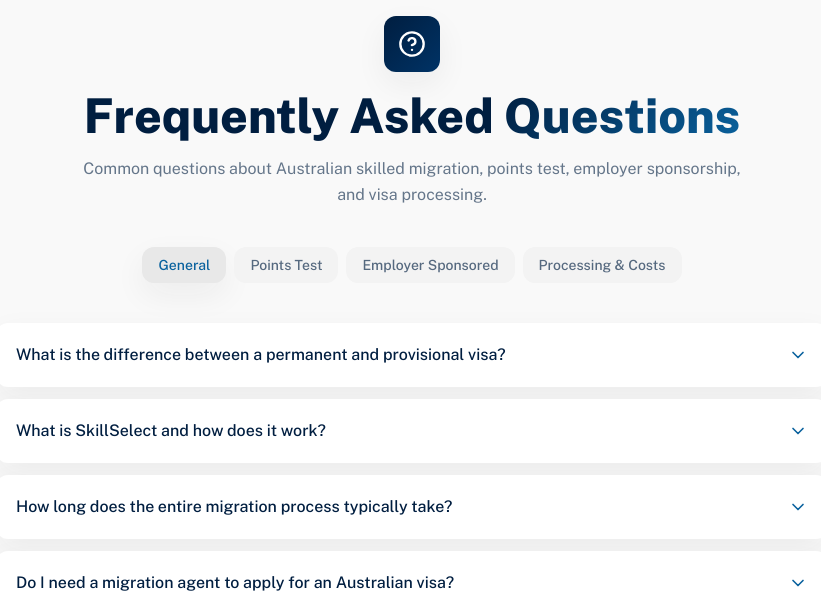
Scenario: FAQPage › switches to Points Test category
Click the button "Points Test". click: click(286, 265)
box: [234, 247, 338, 283]
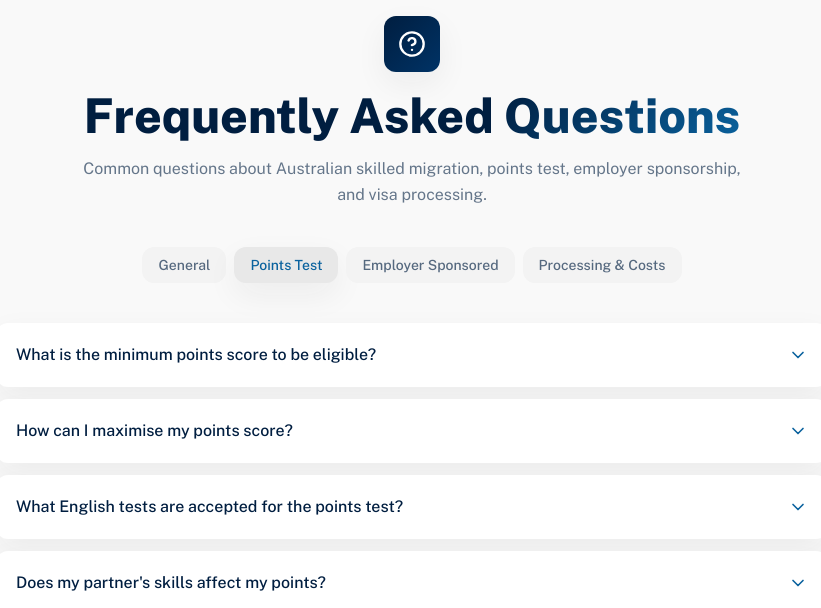
Expected: the text "What is the minimum points score to be eligible?" is shown, [16, 343, 392, 367]
Expected: the text "How can I maximise my points score?" is shown, [16, 419, 309, 443]
